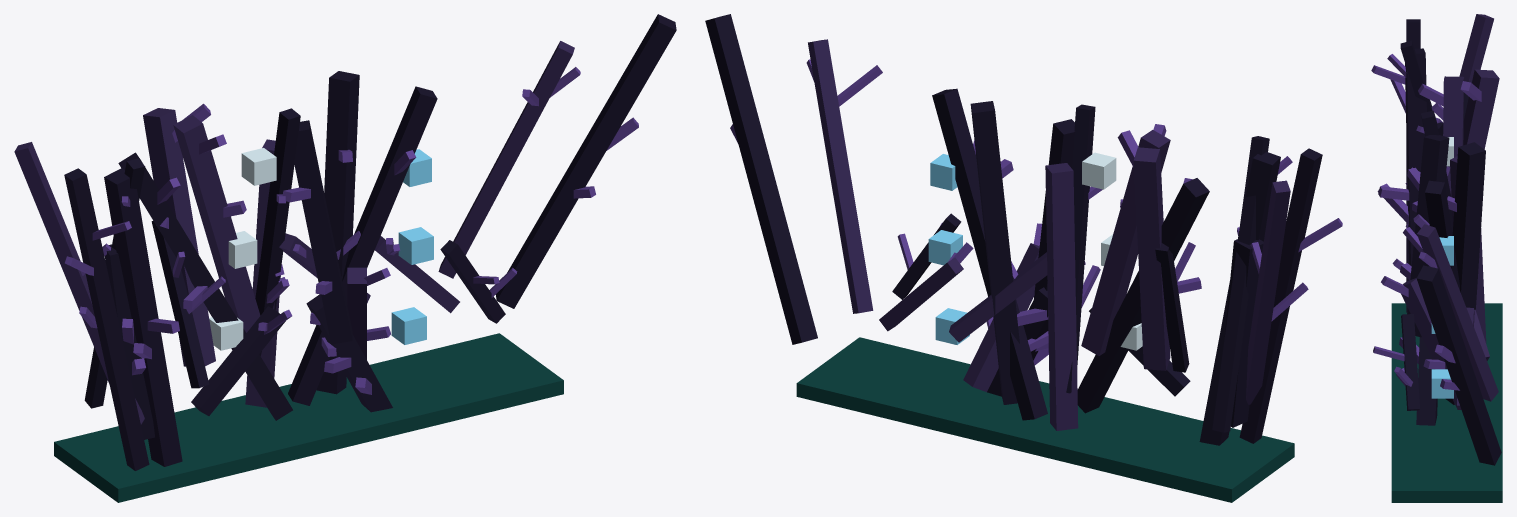
Rendered from thorn_wall_s2.glb.
3 renders of one model, left to right at view 1: azimuth 30°, elevation 25°; view 2: azimuth 150°, elevation 25°; view 3: azimuth 270°, elevation 25°, orthographic. The views are drawn at different scales.
Visible parts, largest first — view 1: thorn_wall_s2; view 2: thorn_wall_s2; view 3: thorn_wall_s2.
Boxes of the visible parts, x1=… form: thorn_wall_s2: x1=14, y1=14, x2=676, y2=502; thorn_wall_s2: x1=705, y1=14, x2=1342, y2=502; thorn_wall_s2: x1=1371, y1=14, x2=1502, y2=502.
Size of the model in its own units: 2.84 by 1.44 by 0.5922.
